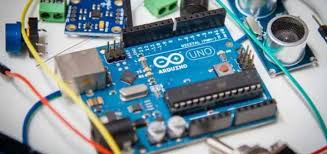arduino: (61, 22, 284, 139)
